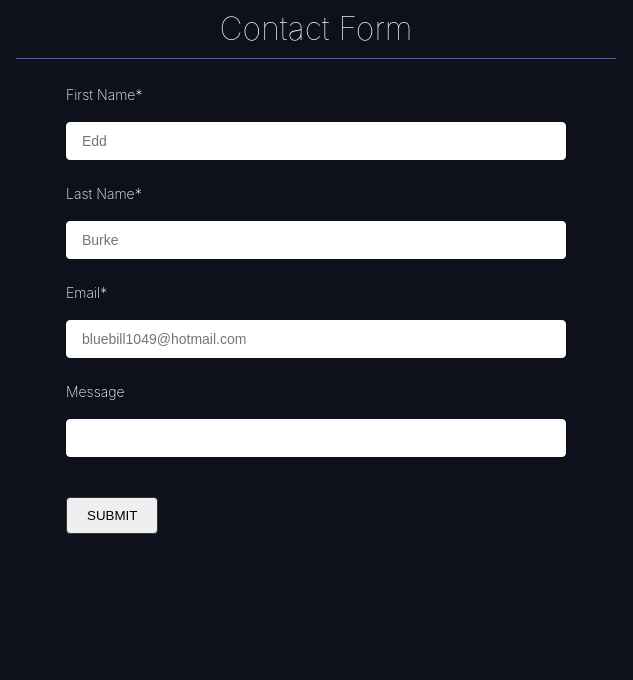
Test: renders all firstName, lastName and email text when submitted. Does NOT render message if message is not submitted.
In the field labelled "First Name*": (316, 141) [66,122,566,160], type "tester"
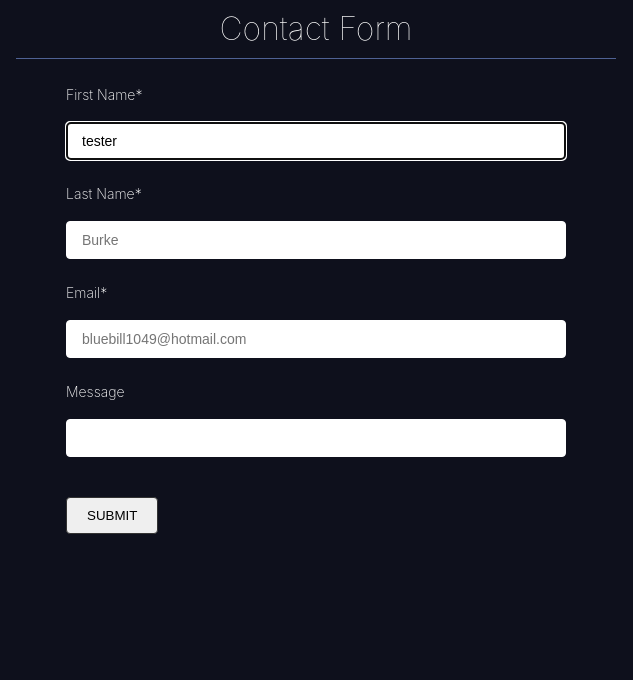
In the field labelled "Last Name*": (316, 240) [66,221,566,259], type "mctest"
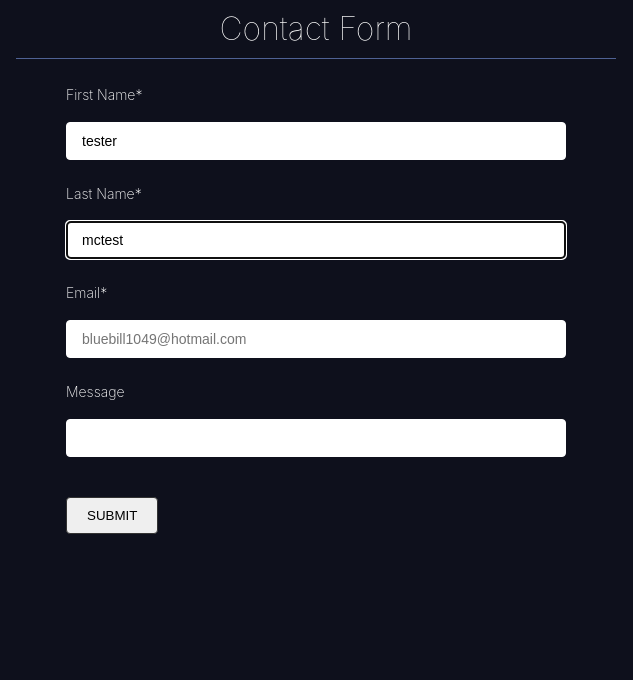
In the field labelled "Email*": (316, 339) [66,320,566,358], type "test@test.com"
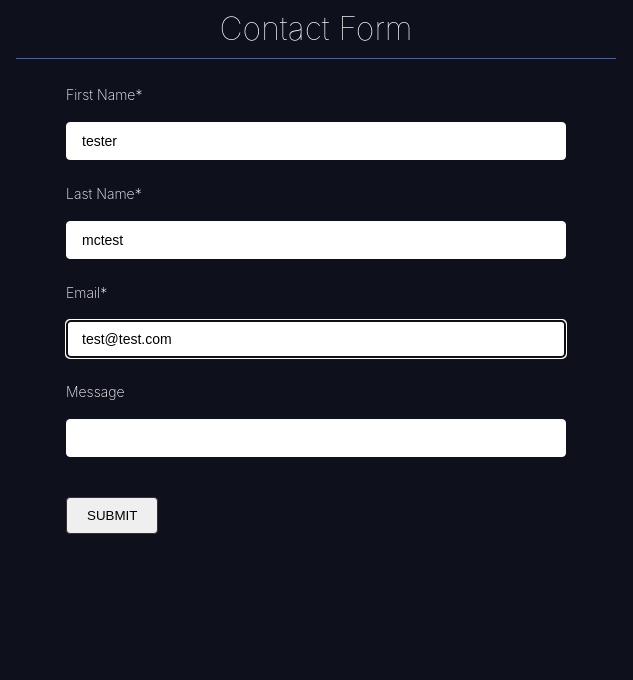
Click the button "Submit": click(112, 515) [66,497,158,534]
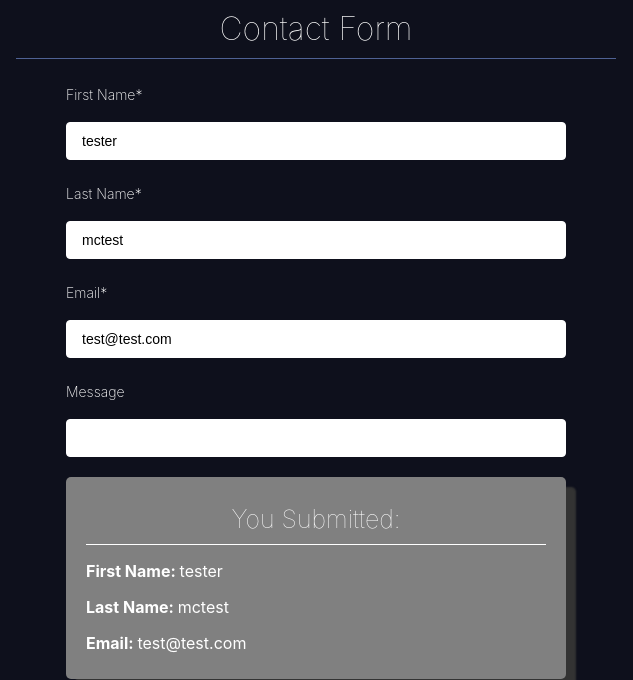
Result: the element with test id "firstnameDisplay" is shown at [86,561,223,581]
Result: the element with test id "lastnameDisplay" is shown at [86,597,229,617]
Result: the element with test id "emailDisplay" is shown at [86,633,246,653]
